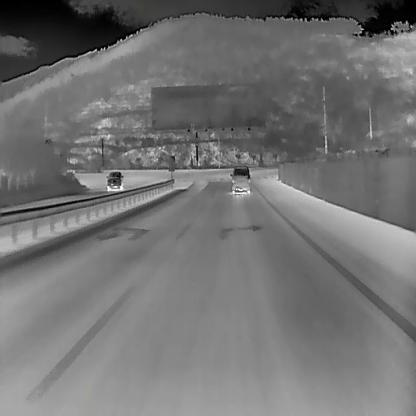car: (230, 164, 251, 194), (106, 171, 124, 190)
